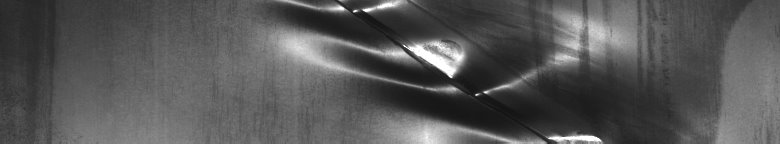ke: (291, 4, 594, 136)
